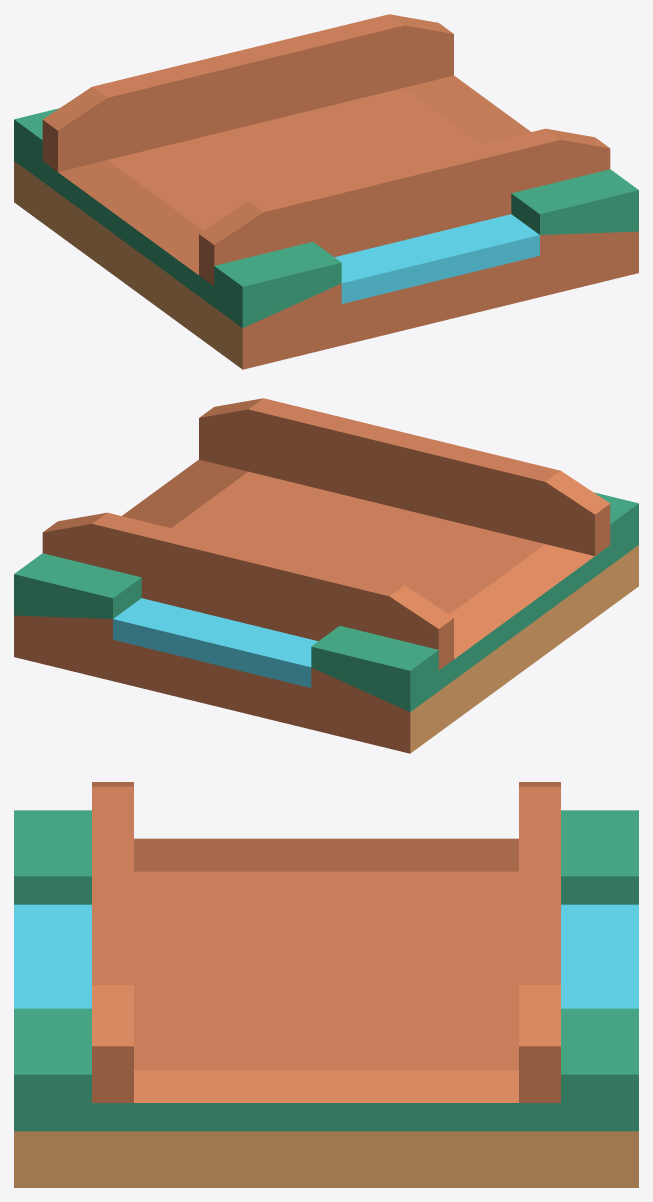
Rendered from TileBridgeGrass.fbx.
The picture shows the model from 3 angles, top to bottom: view 1: azimuth 30°, elevation 25°; view 2: azimuth 150°, elevation 25°; view 3: azimuth 270°, elevation 25°; orthographic projection. The views are drawn at different scales.
Visible parts, largest first — view 1: tile_riverBridge; view 2: tile_riverBridge; view 3: tile_riverBridge.
Boxes of the visible parts, left/top/right/bottom form: tile_riverBridge: left=14, top=14, right=638, bottom=369; tile_riverBridge: left=14, top=398, right=638, bottom=753; tile_riverBridge: left=14, top=782, right=638, bottom=1187.
Bounding box in the file's own units: 39.37 × 11.81 × 39.37.
